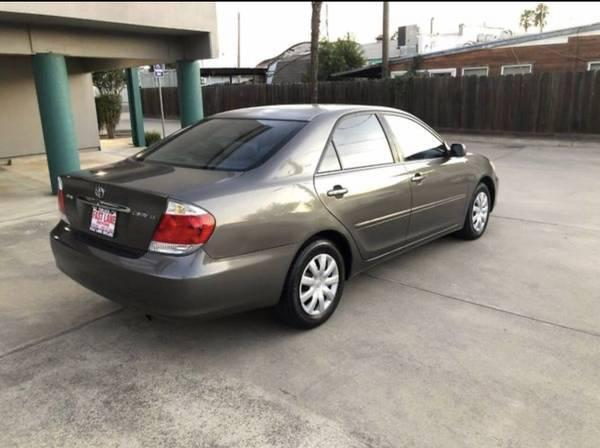Front_Fender: (464, 153, 497, 219)
Front_Right_Door: (403, 158, 467, 252)
Front_Right_Window: (381, 115, 461, 165)
Rear_Bumper: (50, 220, 303, 317)
Rear_Fender: (170, 172, 326, 258)
Rear_Right_Door: (312, 165, 411, 280)
Rear_Right_Window: (314, 111, 399, 174)
Rear_Windshield: (131, 119, 308, 172)
Right_Taillight: (148, 198, 217, 255)
Roof: (206, 102, 451, 182)
Tailgate: (59, 160, 244, 252)
Wheel: (290, 239, 347, 325), (467, 186, 491, 237)
